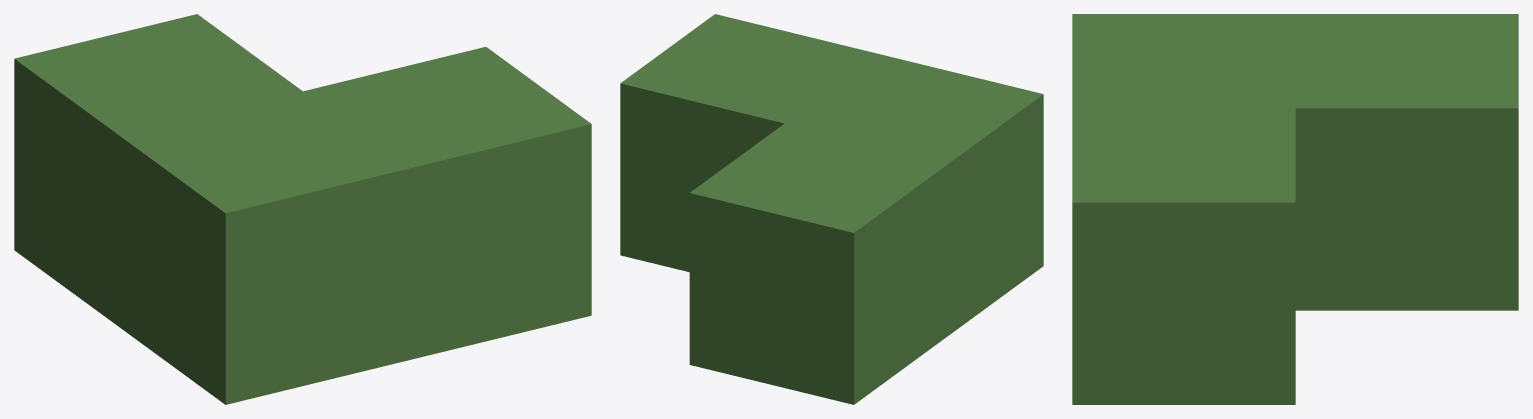
Rendered from terrain-grass-inner-corner.lod0.glb.
3 renders of one model, left to right at view 1: azimuth 30°, elevation 25°; view 2: azimuth 150°, elevation 25°; view 3: azimuth 270°, elevation 25°, orthographic. The views are drawn at different scales.
Visible parts, largest first — view 1: terrain-grass-inner-corner__body; view 2: terrain-grass-inner-corner__body; view 3: terrain-grass-inner-corner__body.
Boxes of the visible parts, x1,y1,x2,y2 form: terrain-grass-inner-corner__body: (14,14,591,404); terrain-grass-inner-corner__body: (620,14,1043,404); terrain-grass-inner-corner__body: (1072,14,1518,404).
Bounding box in the file's own units: 2 × 1 × 2.
